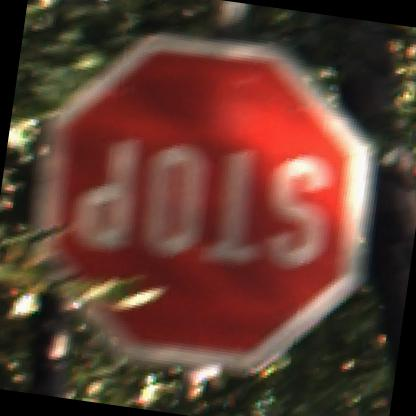stop: (3, 18, 397, 388)
